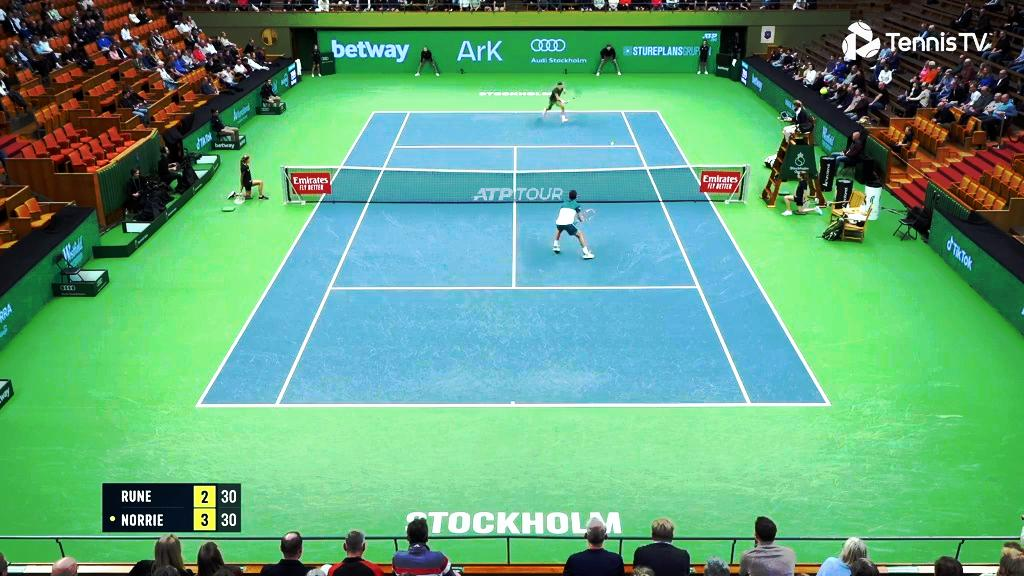tennis-court: (195, 111, 832, 407)
